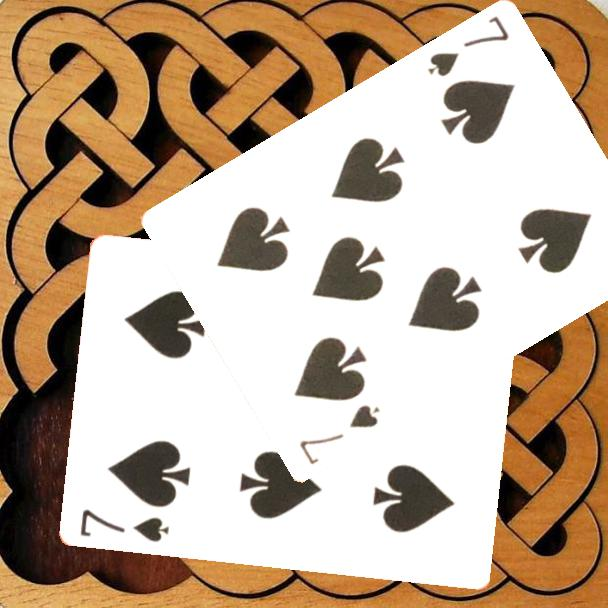s07: (423, 13, 512, 81), (295, 401, 383, 468), (77, 505, 173, 545)
